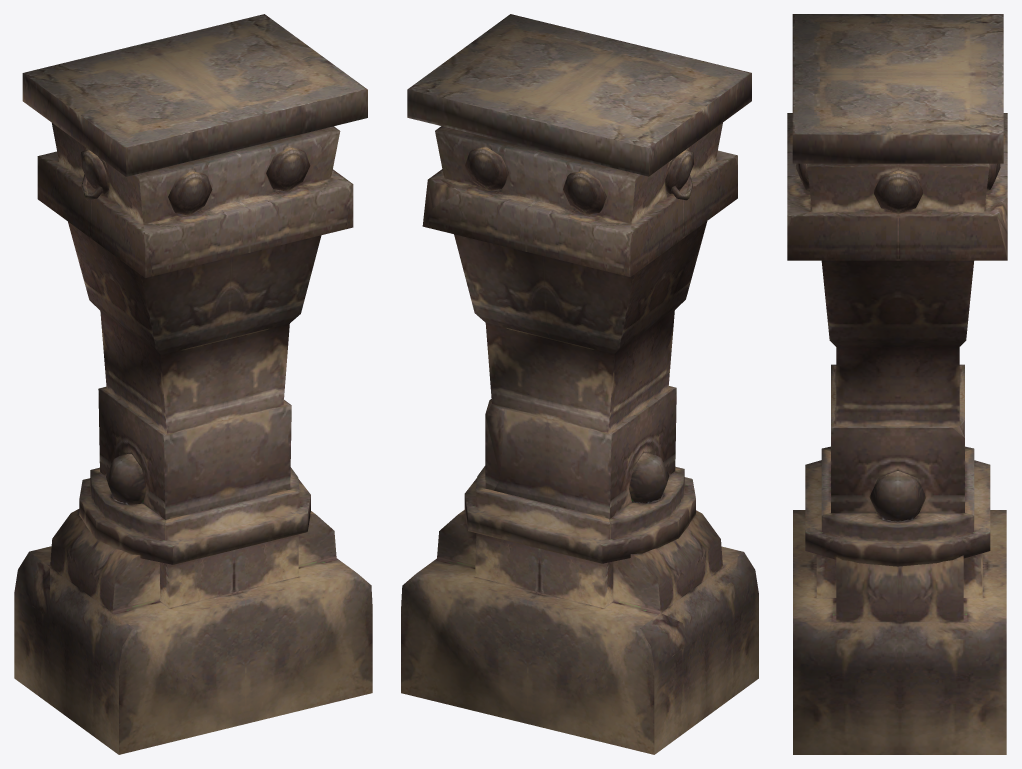
The model's file is Scene_Build_TaZiShaMo_WuJian_1.FBX.
The picture shows the model from 3 angles, left to right: view 1: azimuth 30°, elevation 25°; view 2: azimuth 150°, elevation 25°; view 3: azimuth 270°, elevation 25°; orthographic projection. The views are drawn at different scales.
Parts seen in each view (by area): view 1: Scene_Build_TaZiShaMo_WuJian_1; view 2: Scene_Build_TaZiShaMo_WuJian_1; view 3: Scene_Build_TaZiShaMo_WuJian_1.
Part boxes in pixels (x1=…): Scene_Build_TaZiShaMo_WuJian_1: x1=14, y1=14, x2=372, y2=754; Scene_Build_TaZiShaMo_WuJian_1: x1=401, y1=14, x2=758, y2=754; Scene_Build_TaZiShaMo_WuJian_1: x1=787, y1=14, x2=1007, y2=754.
Bounding box in the file's own units: 114 × 261 × 84.11.
